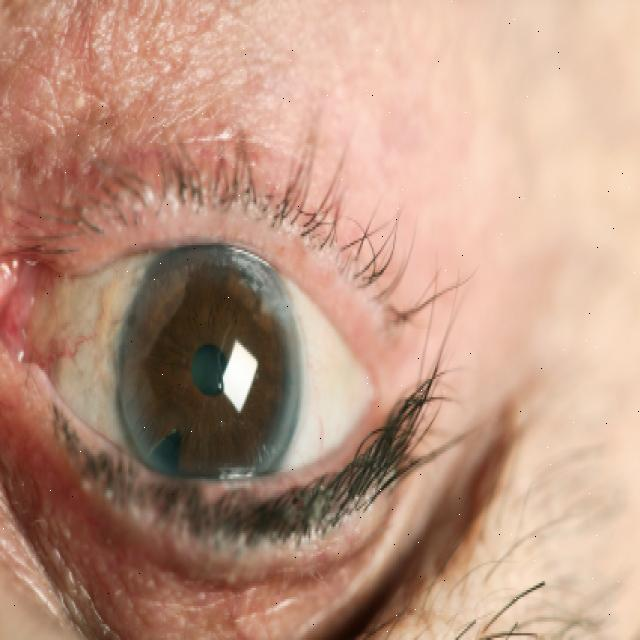Normal: (116, 225, 299, 517)
